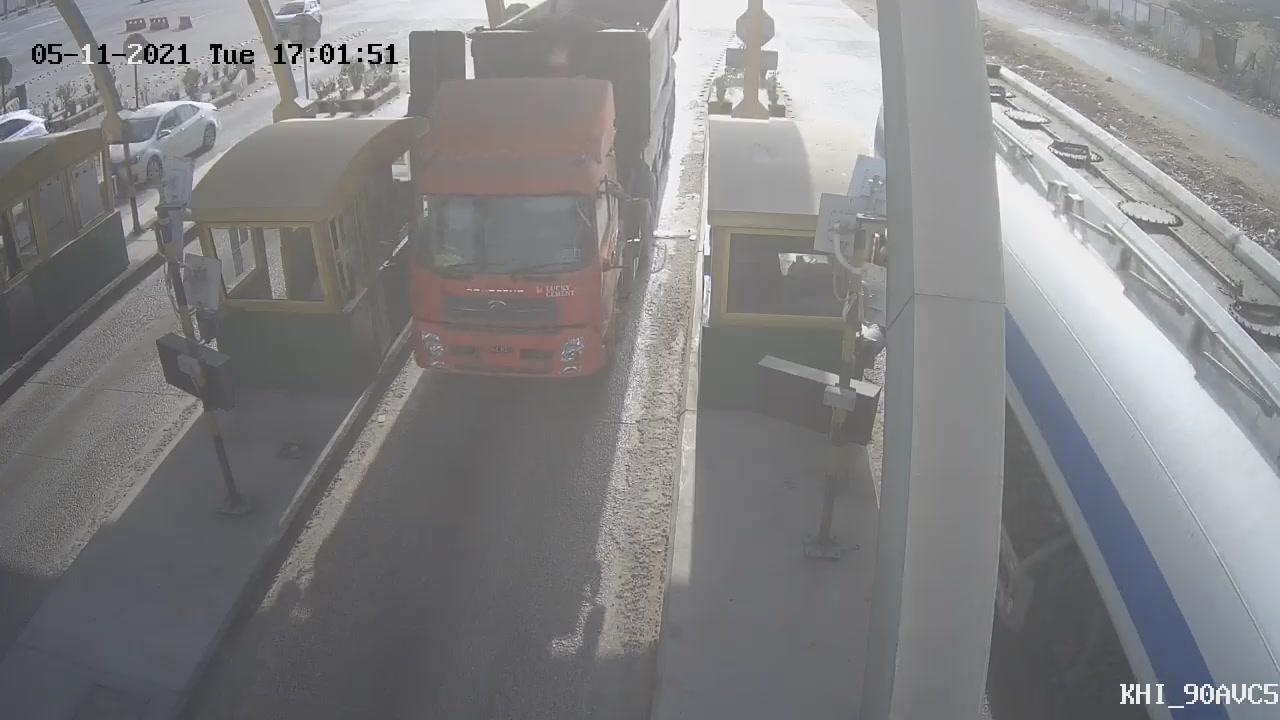F6: (344, 3, 704, 409)
